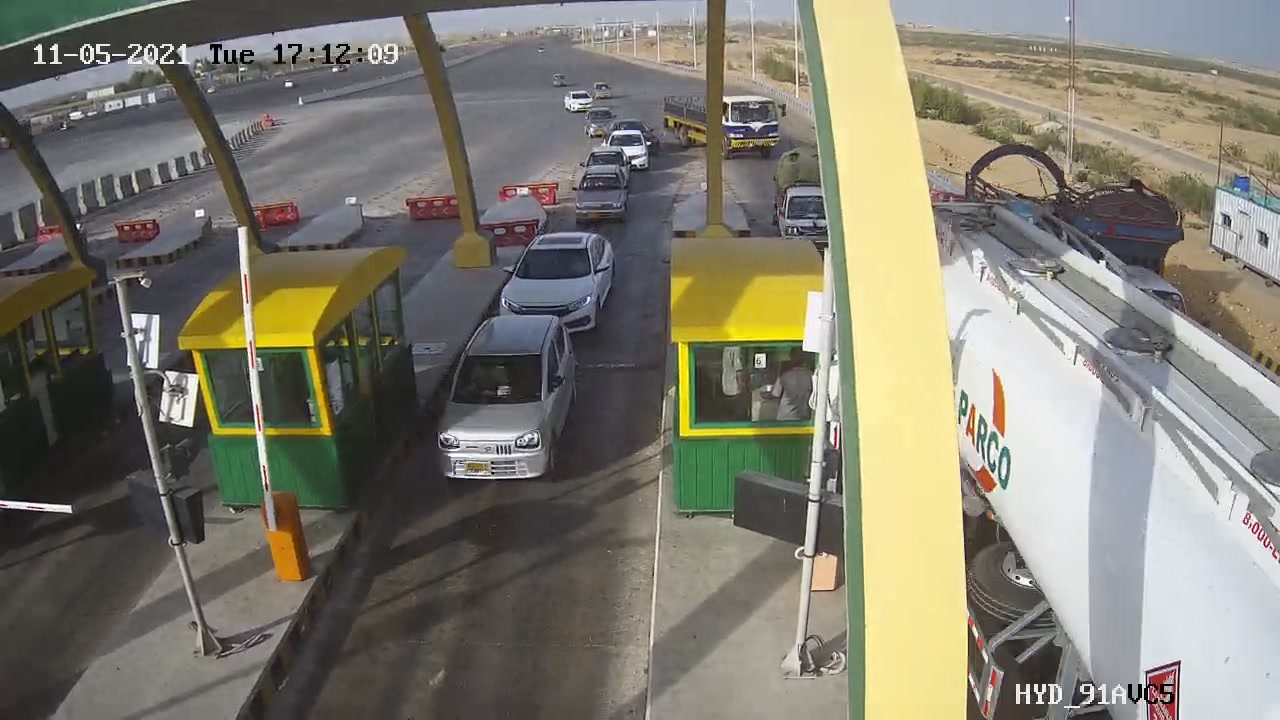F1: (422, 307, 605, 495), (486, 214, 635, 349)
